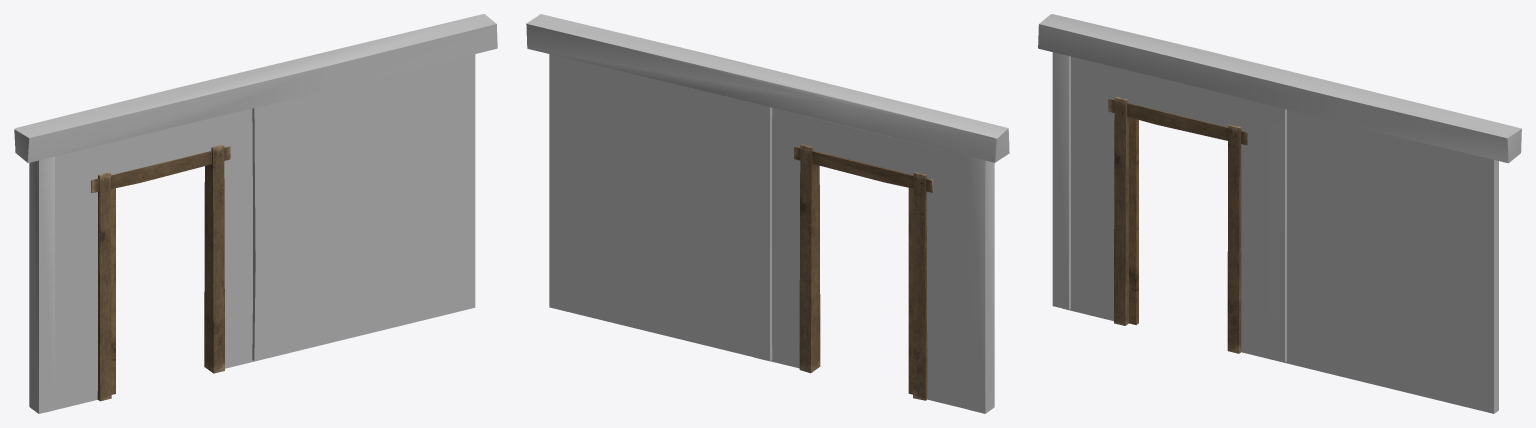
Rendered from SM_WallElement_07_COLL.FBX.
3 views of the same model, side by side, from view 1: azimuth 30°, elevation 25°; view 2: azimuth 150°, elevation 25°; view 3: azimuth 330°, elevation 25° (orthographic).
Parts seen in each view (by area): view 1: SM_WallElement_07_COLL; view 2: SM_WallElement_07_COLL; view 3: SM_WallElement_07_COLL.
Part boxes in pixels (x1=…): SM_WallElement_07_COLL: x1=14, y1=14, x2=497, y2=413; SM_WallElement_07_COLL: x1=526, y1=14, x2=1009, y2=413; SM_WallElement_07_COLL: x1=1038, y1=14, x2=1521, y2=413.
Bounding box in the file's own units: 5.46 × 3.16 × 0.302.
